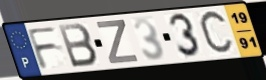3: (167, 12, 204, 60), (133, 16, 166, 62)
B: (56, 22, 100, 70)
C: (197, 8, 236, 59)
F: (25, 25, 60, 71)
Z: (94, 19, 141, 66)
